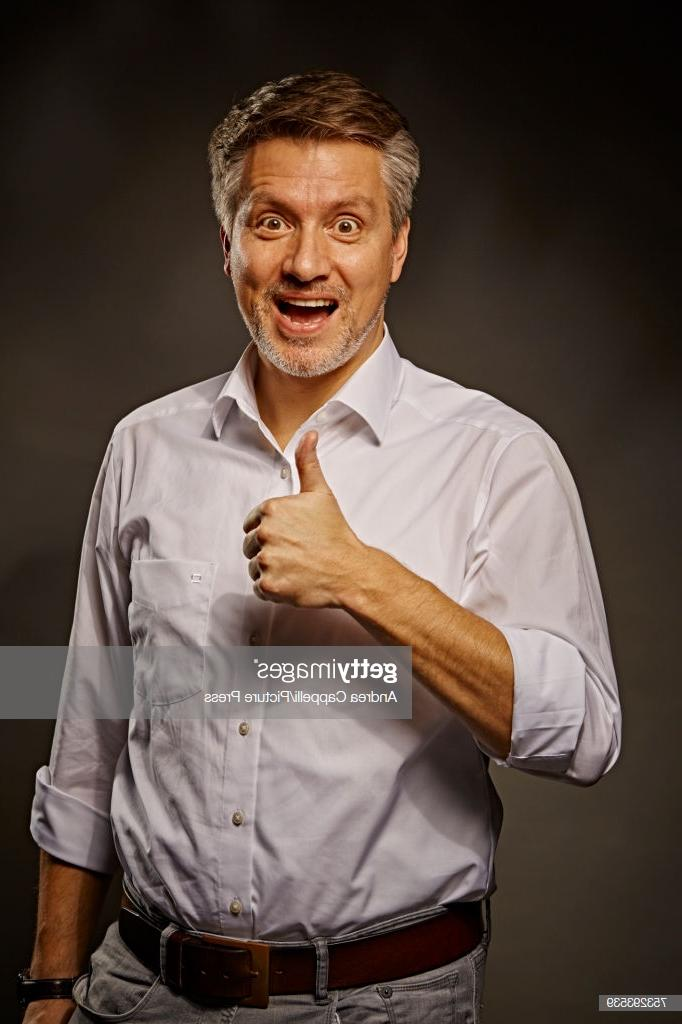thumbsup: (243, 430, 329, 606)
